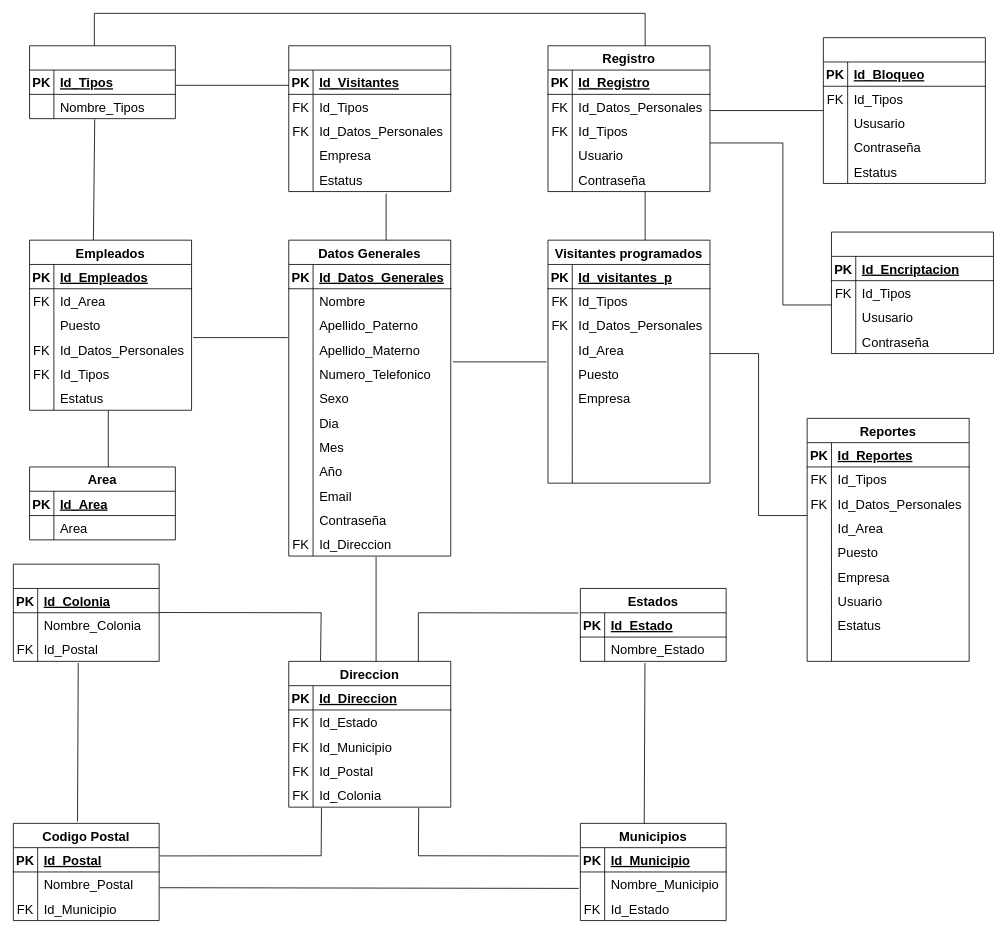
The diagram is 1007 pixels wide and 934 high, and some of its shapes have lost their labels. Each missing label, with the box of its shape:
Bloqueo de Usuarios: (823, 37, 985, 183)
Colonias: (13, 563, 159, 661)
Encriptacion de datos: (831, 231, 993, 354)
Tipo de Usuario: (29, 45, 175, 119)
Visitantes Temporales: (288, 45, 451, 192)
